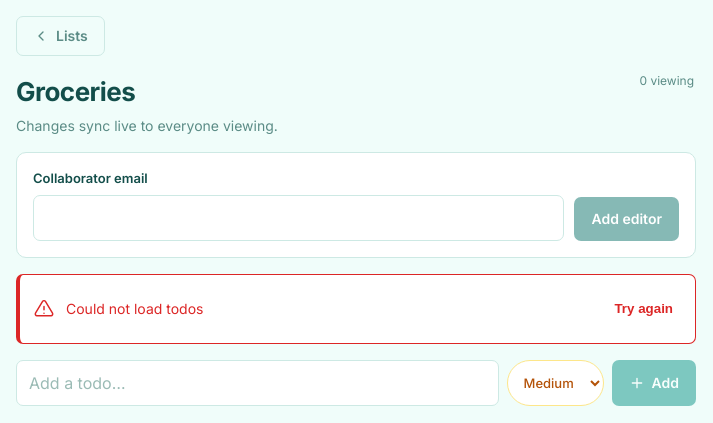
Test: ListDetail › retries a failed initial load without showing the empty state
Expected: the message shows "Could not load todos", [66,300,204,317]
Step 1. Click the button "Try again" → click(644, 308), box [606,286,681,330]
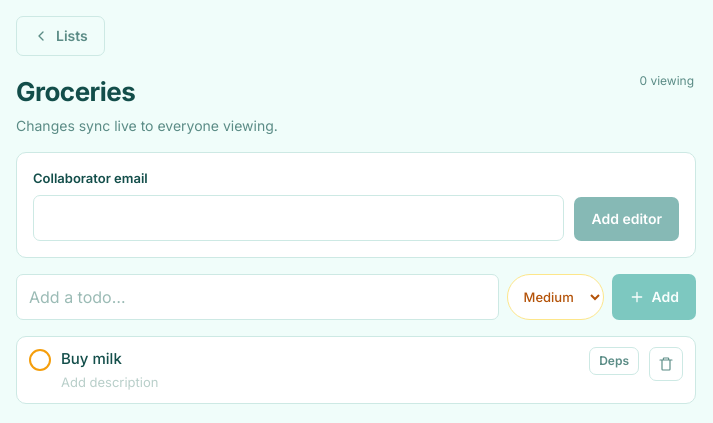
Now the field showing "Buy milk" is shown, box [61,346,579,371]
Now the message "Could not load todos Try again" is gone
